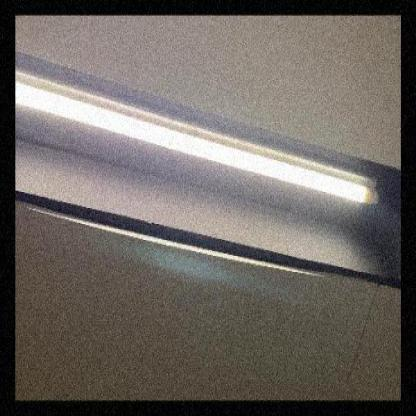light_on: (15, 31, 384, 239)
